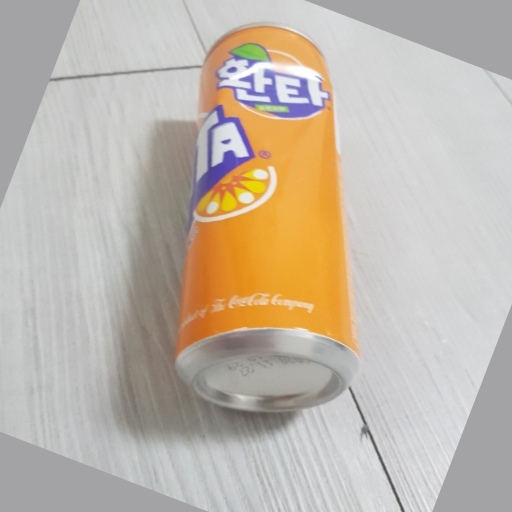Metal_0: (176, 23, 361, 421)
